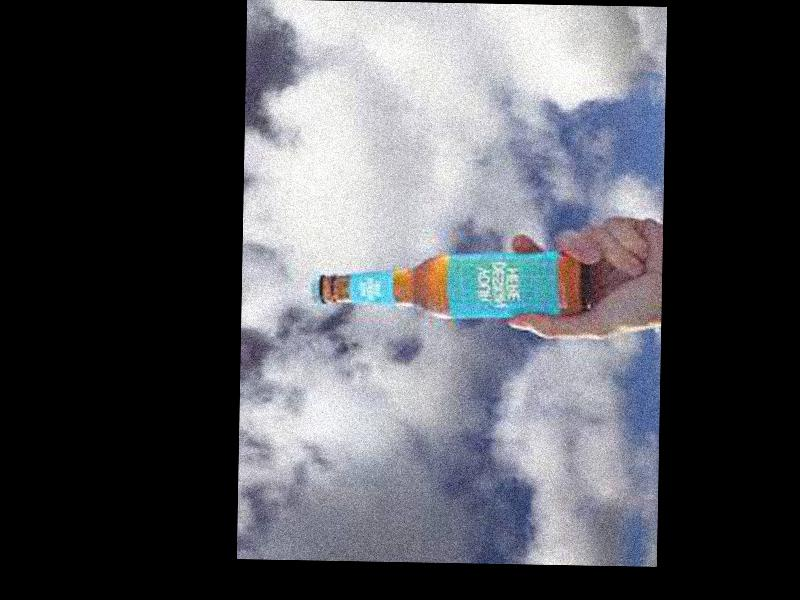Beer: (312, 253, 587, 321)
